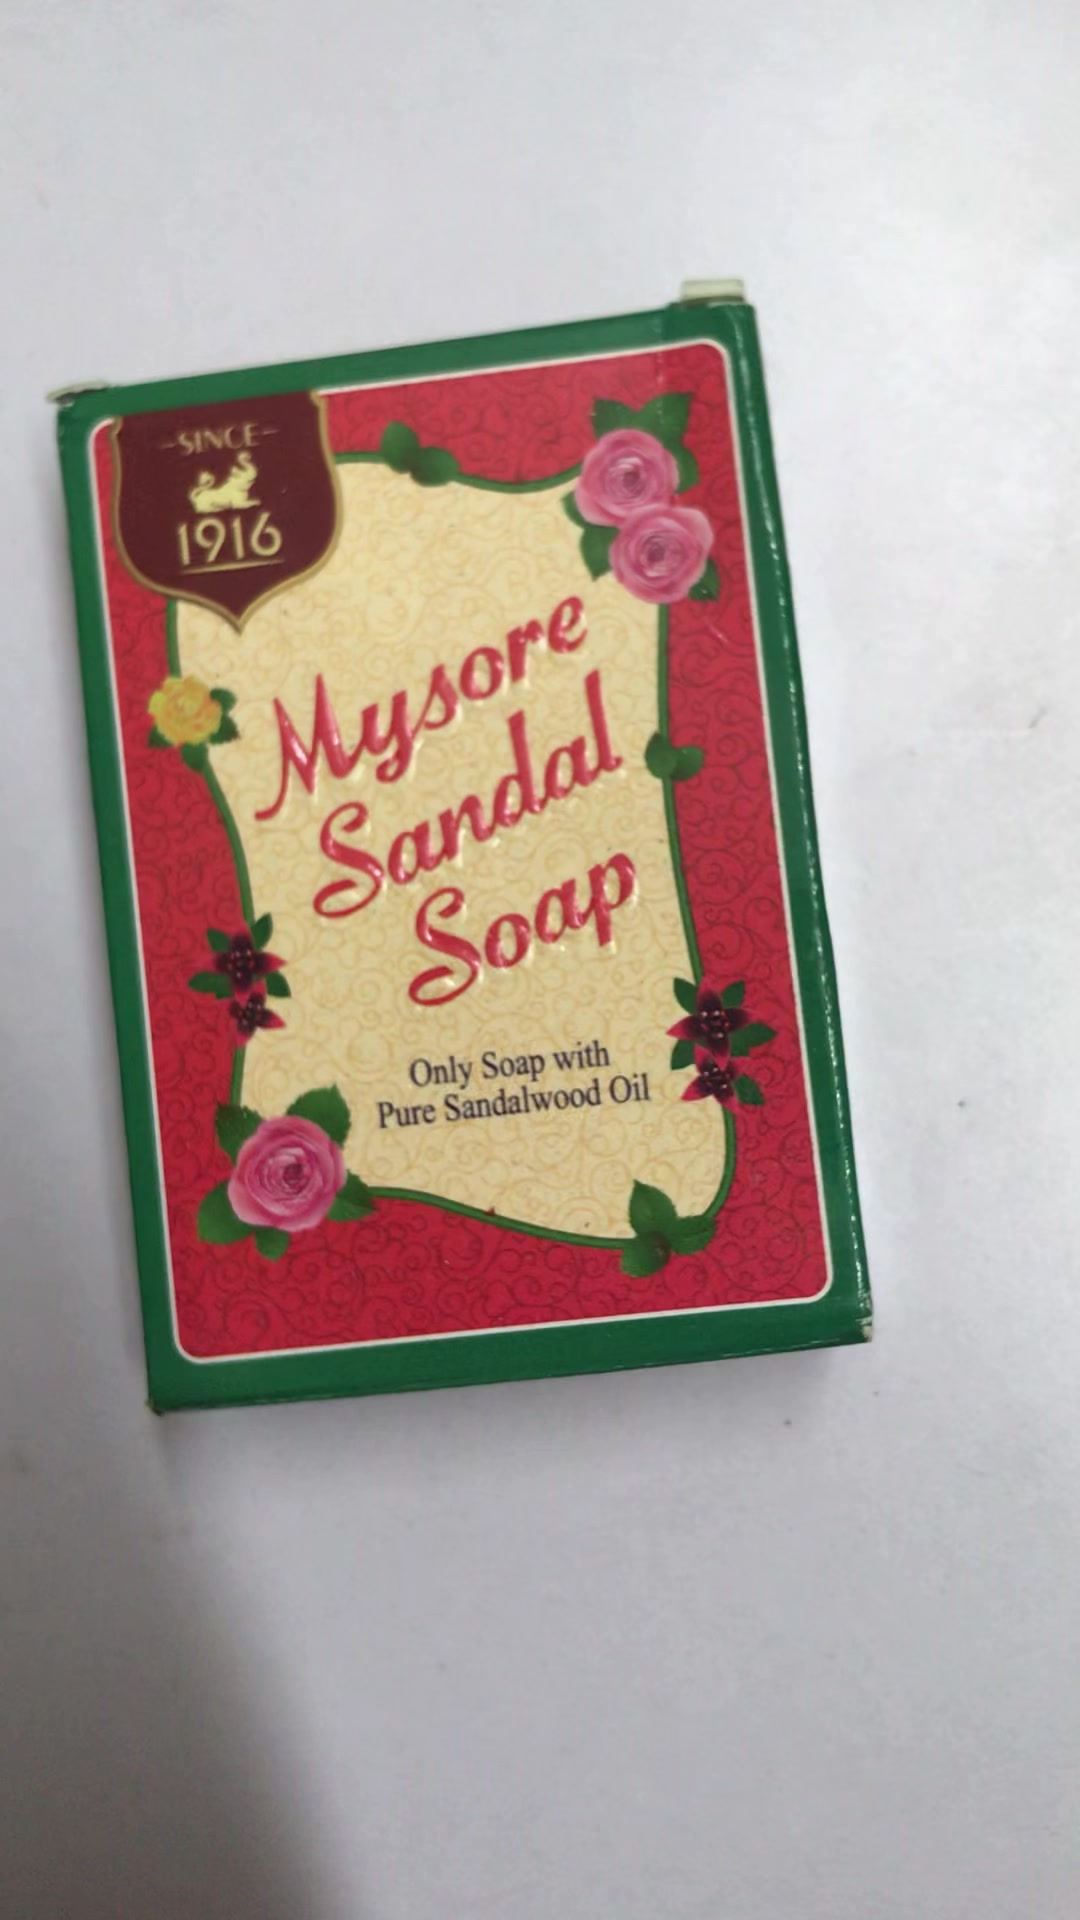mysore sandal soap: (70, 309, 868, 1418)
